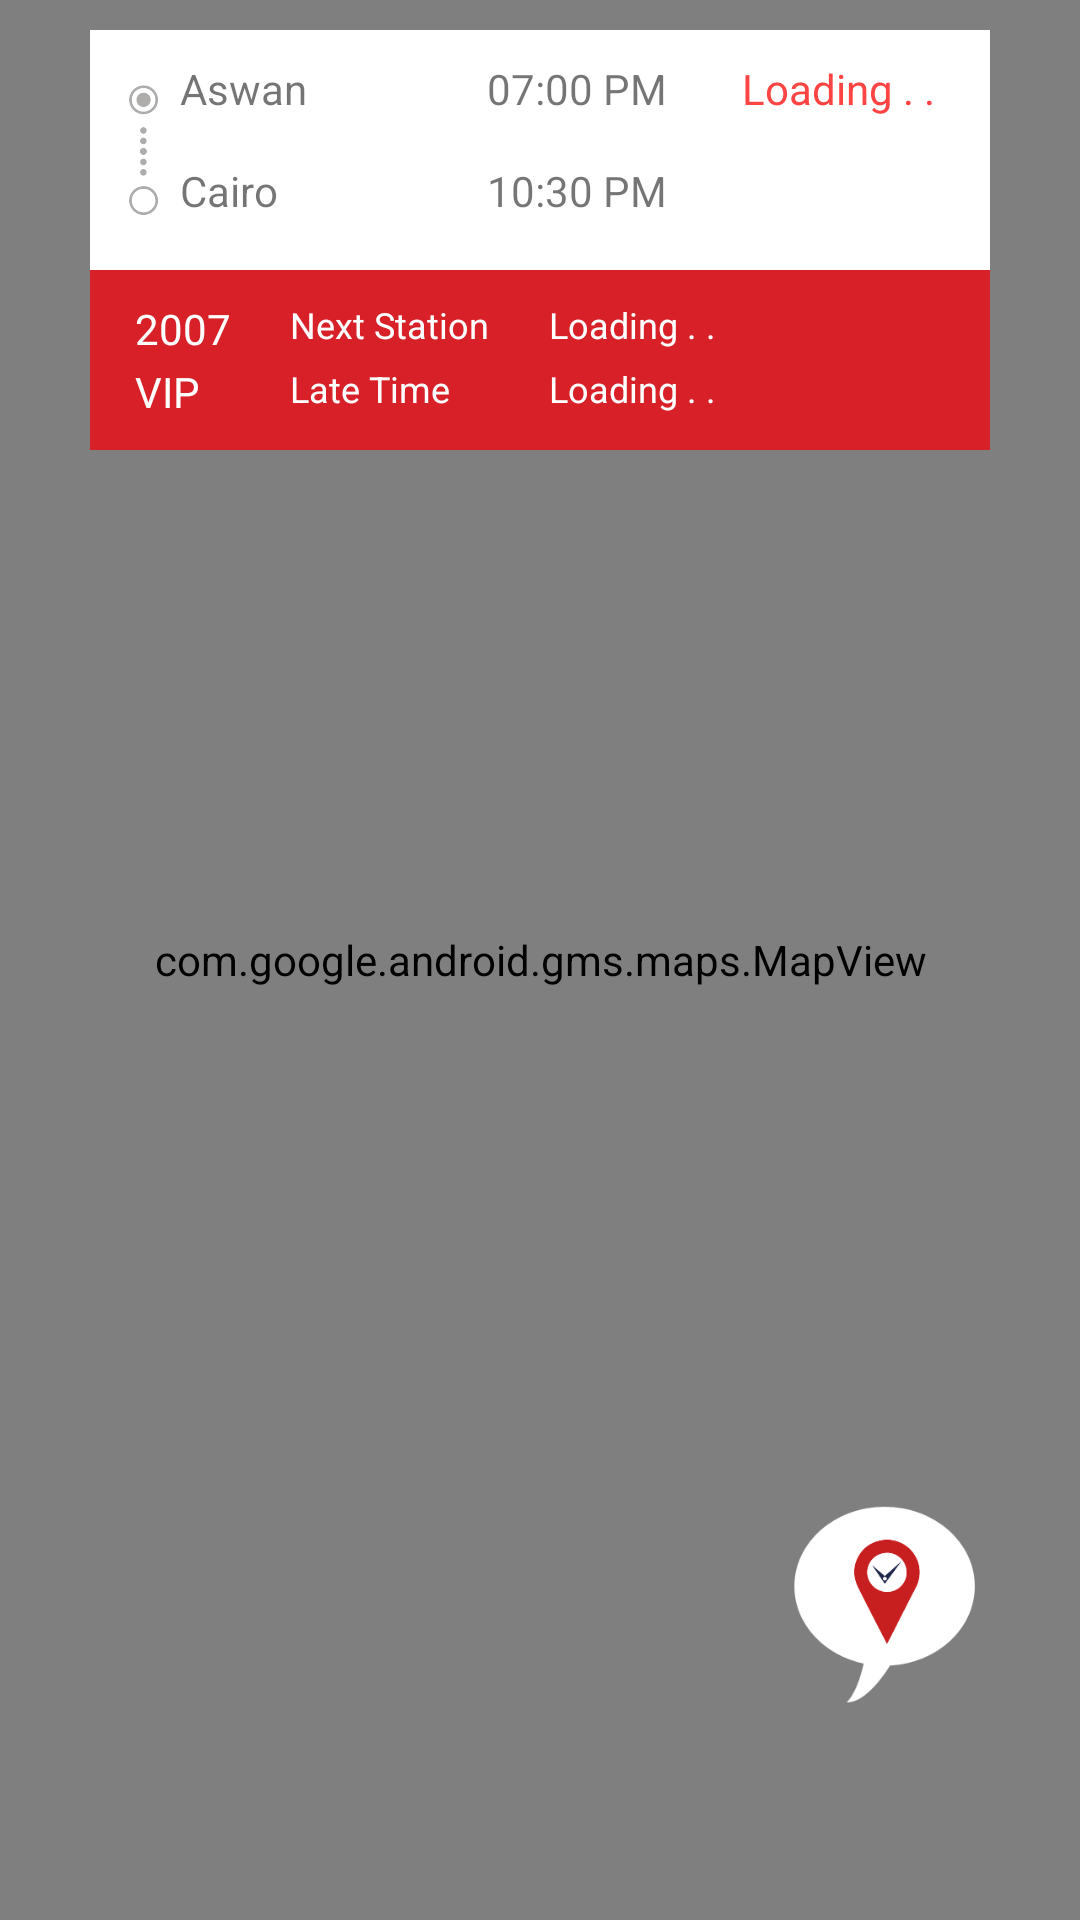

Icon click points for this 1080 x 1920 phone screenshot, format (x=x, y=y):
Route: (x=143, y=150)
